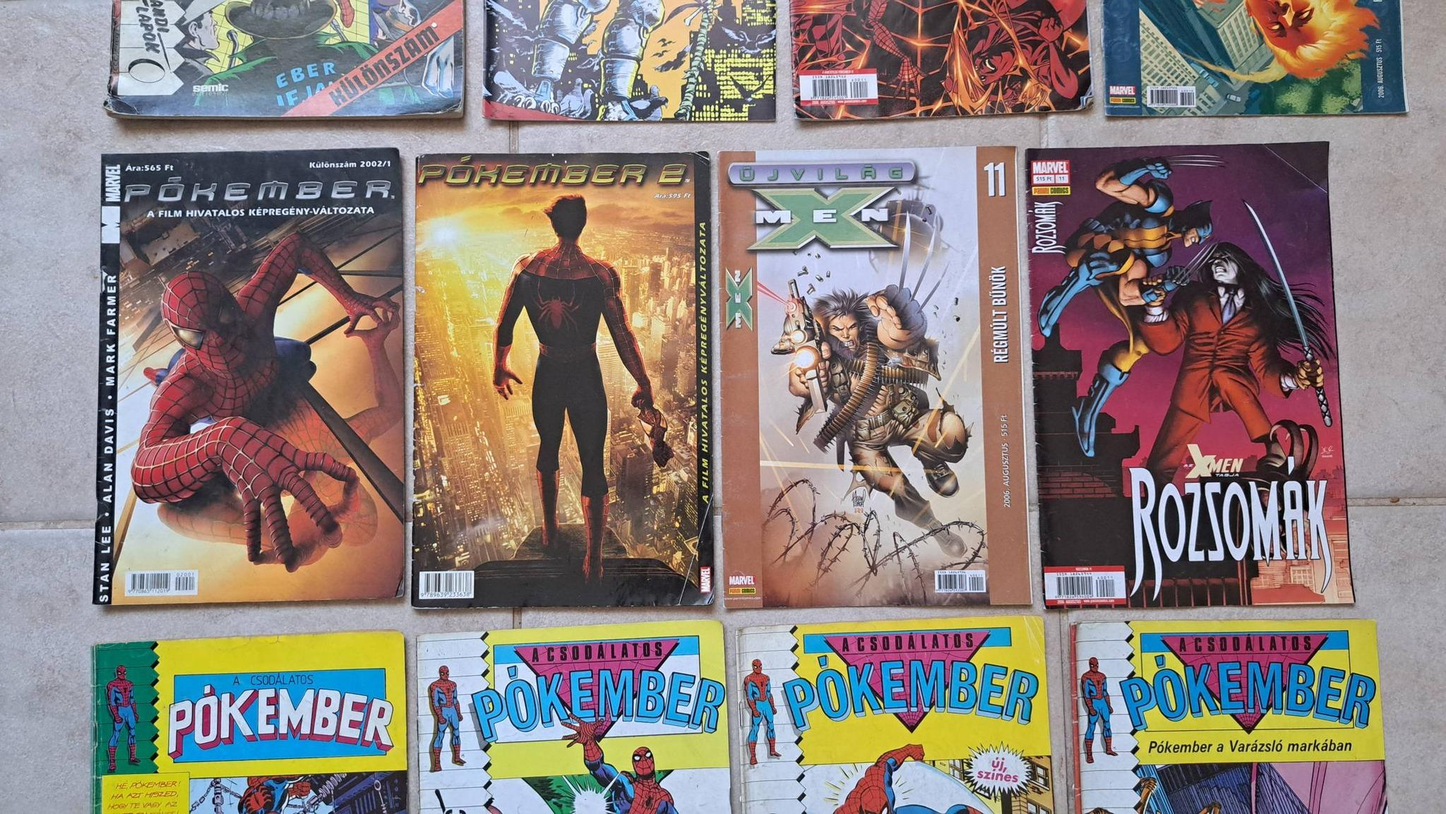comic: (1023, 138, 1353, 615), (714, 147, 1033, 610), (92, 150, 405, 604), (411, 153, 713, 607)
